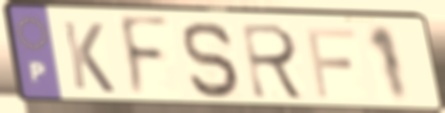1: (364, 23, 413, 106)
F: (116, 13, 174, 103), (302, 24, 359, 100)
K: (59, 18, 118, 96)
R: (238, 21, 310, 103)
S: (180, 19, 245, 101)
